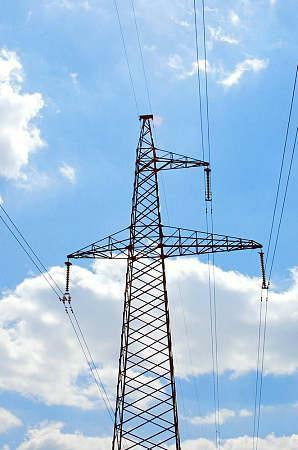power_tower: (64, 108, 272, 450)
